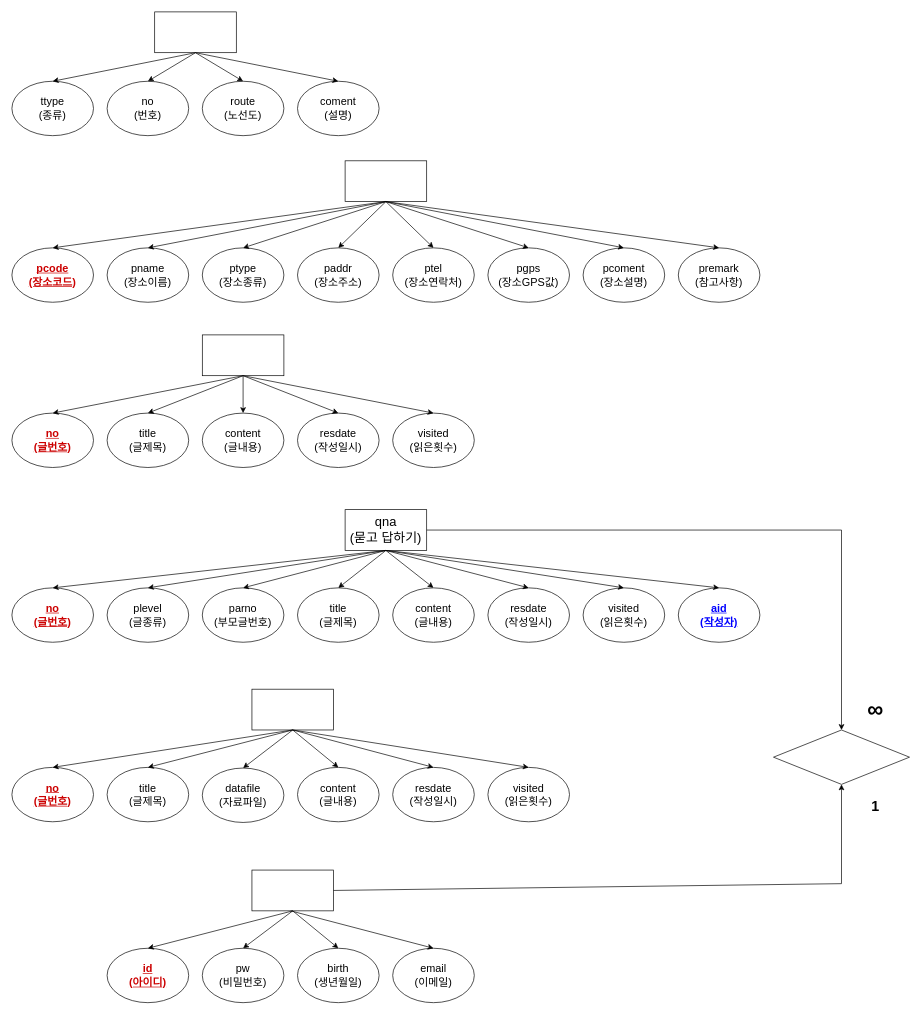
Some shapes in this 921 by 1015 pixel diagram are drawn without their labels. The shapes that lost their labels are listed below. From the top down, each one's centre as x and y in pixels, then its label:
(x=195, y=32): traffic (교통)
(x=385, y=181): guide (안내사항)
(x=243, y=355): notice (공지사항)
(x=292, y=709): data (자료실)
(x=841, y=756): 글등록
(x=292, y=890): member (회원)
